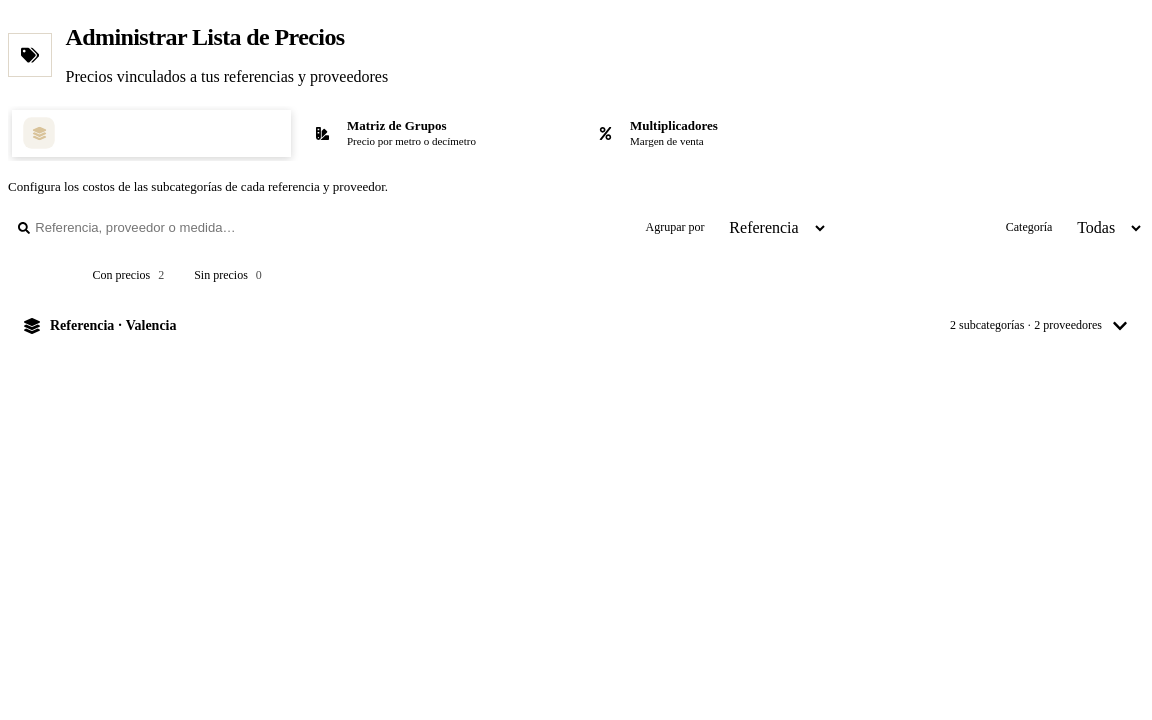
Test: Una referencia con proveedor independiente por subcategoría › muestra cada subcategoría una vez, sin tarjetas de Valencia repetidas ni cargar todos los costos
The image size is (1152, 720).
Click the button with aria-label "Expandir referencia Valencia" at (113, 325), box [8,304,1144,348]
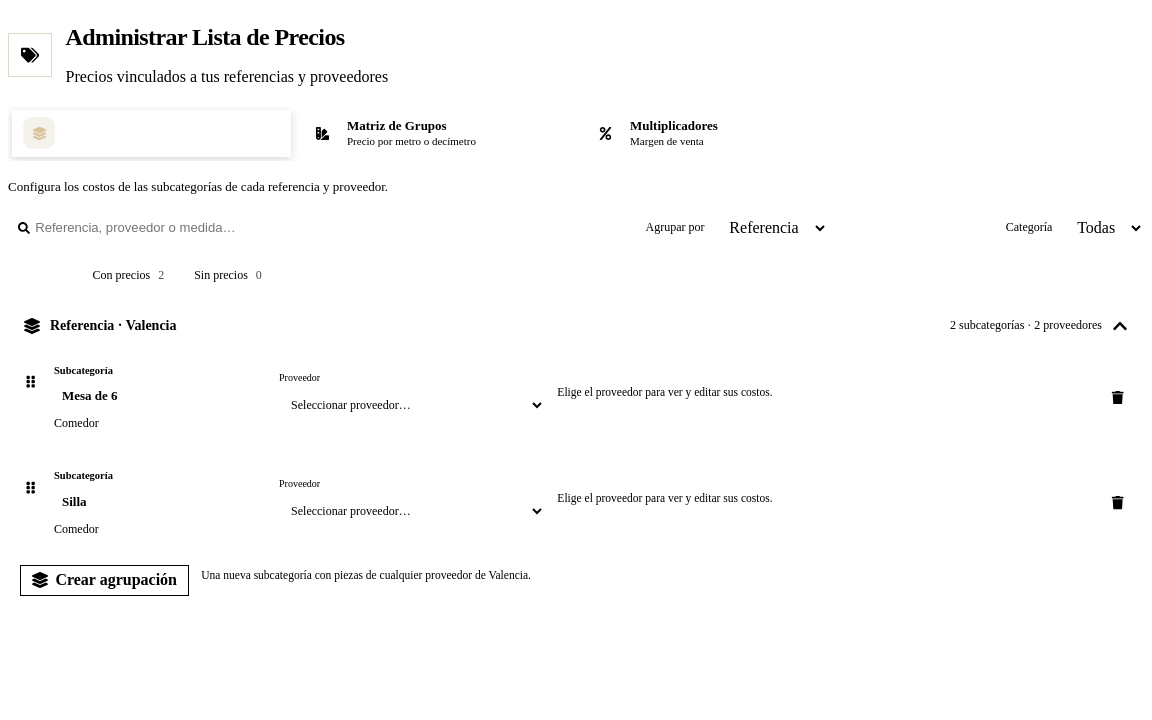
Expected: the dropdown named "Proveedor de Mesa de 6" shows "Seleccionar proveedor…", [279,388,545,422]
Expected: the dropdown named "Proveedor de Silla" shows "Seleccionar proveedor…", [279,494,545,528]
